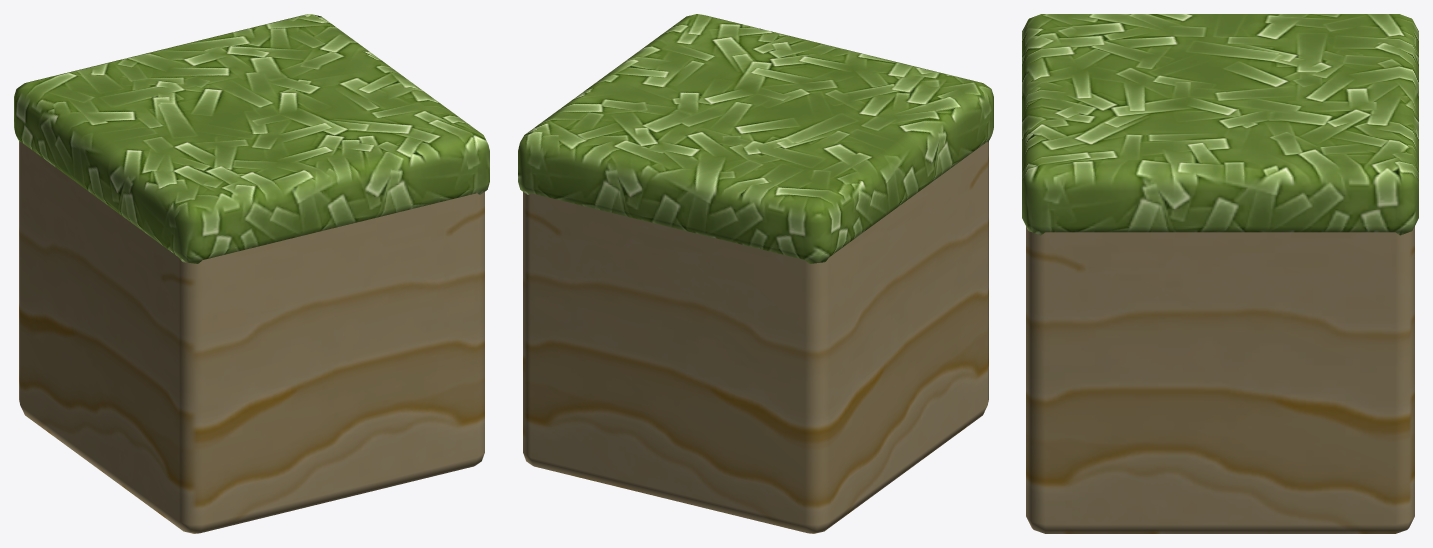
File: SM_Platform_1m_01_A.glb
3 renders of one model, left to right at view 1: azimuth 30°, elevation 25°; view 2: azimuth 150°, elevation 25°; view 3: azimuth 270°, elevation 25°, orthographic. The views are drawn at different scales.
Parts seen in each view (by area): view 1: SM_Platform_1m_01_A; view 2: SM_Platform_1m_01_A; view 3: SM_Platform_1m_01_A.
Boxes of the visible parts, bbox=[...] form: SM_Platform_1m_01_A: bbox=[14, 14, 489, 533]; SM_Platform_1m_01_A: bbox=[518, 14, 993, 533]; SM_Platform_1m_01_A: bbox=[1022, 14, 1418, 533].
Size of the model in its own units: 1.02 by 1.05 by 1.02.
2 materials, 2 textured.
